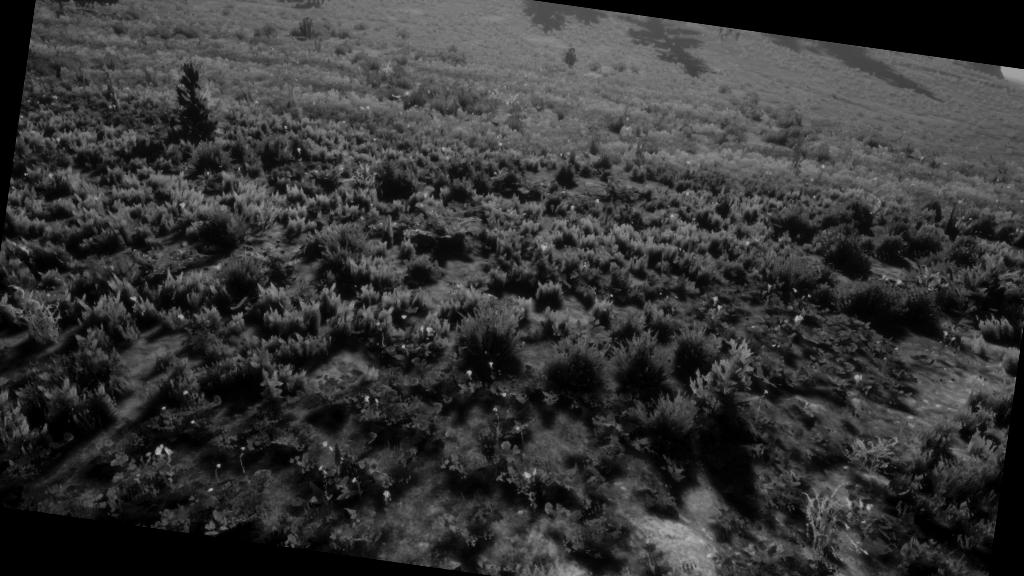elephant: (301, 0, 338, 10)
human: (177, 0, 194, 6)
